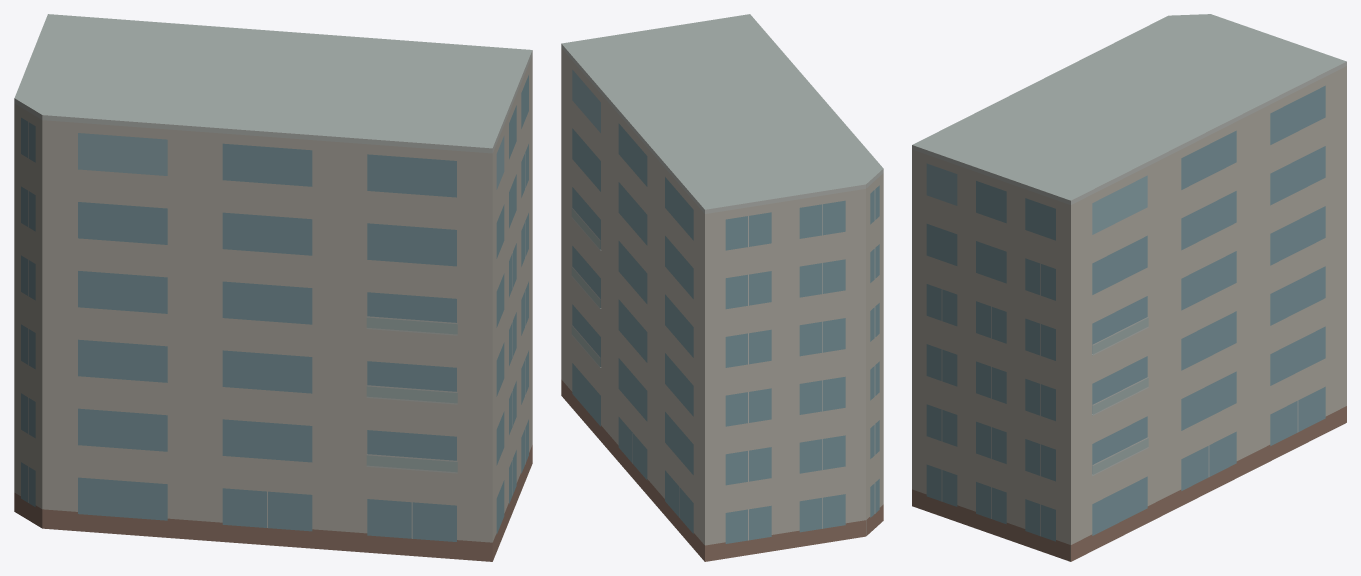
Rendered from survey-upis-33015858.glb.
3 renders of one model, left to right at view 1: azimuth 30°, elevation 25°; view 2: azimuth 150°, elevation 25°; view 3: azimuth 270°, elevation 25°, orthographic. The views are drawn at different scales.
Parts seen in each view (by area): view 1: survey-upis-33015858.tmp; view 2: survey-upis-33015858.tmp; view 3: survey-upis-33015858.tmp.
Part boxes in pixels (x1,y1,x2,y2): survey-upis-33015858.tmp: (14,14,532,561); survey-upis-33015858.tmp: (561,14,883,561); survey-upis-33015858.tmp: (912,14,1346,561).
Bounding box in the file's own units: 21.96 × 19.8 × 21.61.
